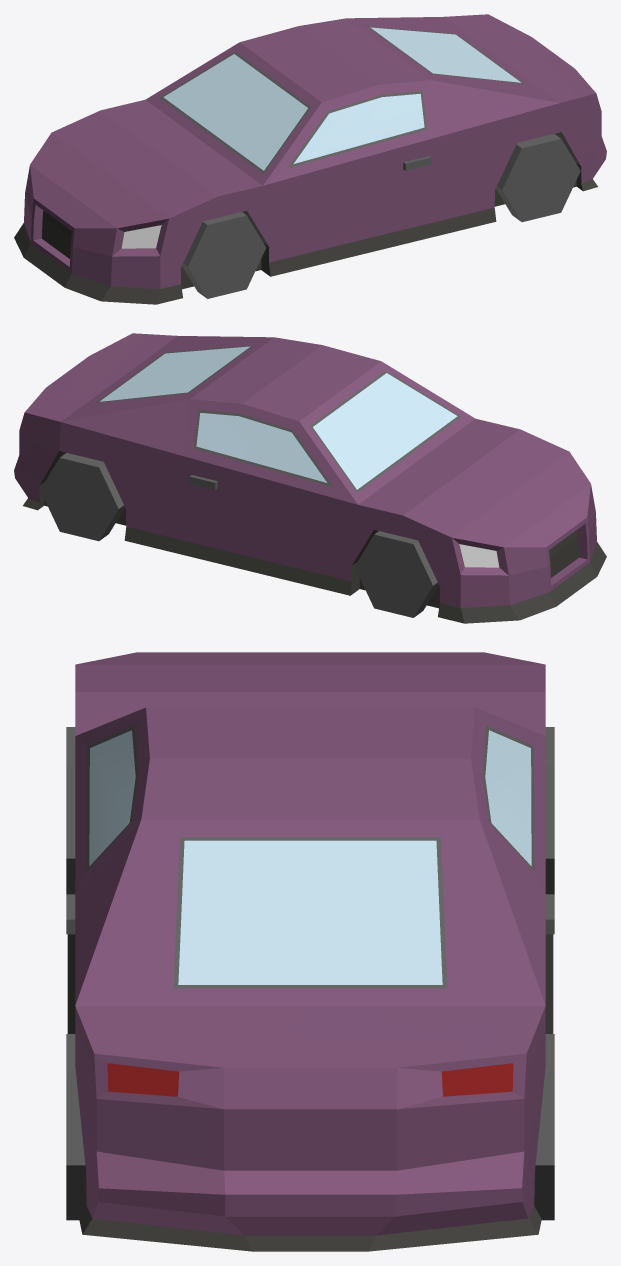
File: Car_3_3.fbx
3 views of the same model, one above another, from view 1: azimuth 30°, elevation 25°; view 2: azimuth 150°, elevation 25°; view 3: azimuth 270°, elevation 25° (orthographic). The views are drawn at different scales.
Parts seen in each view (by area): view 1: Car_3_3; view 2: Car_3_3; view 3: Car_3_3.
Part boxes in pixels (x1=…): Car_3_3: x1=14, y1=14, x2=606, y2=304; Car_3_3: x1=14, y1=333, x2=606, y2=623; Car_3_3: x1=66, y1=652, x2=554, y2=1251.
Bounding box in the file's own units: 7.4 × 2.03 × 2.96.
1 material, 1 textured.
